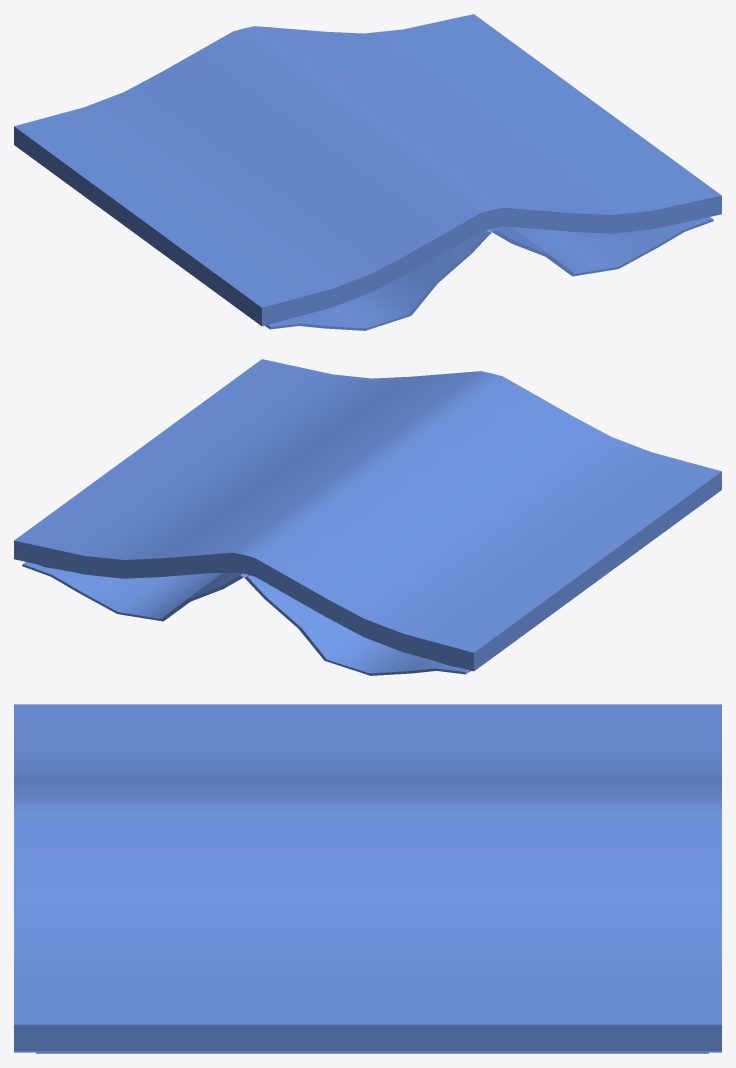
File: SM_Magazine.fbx
3 views of the same model, one above another, from view 1: azimuth 30°, elevation 25°; view 2: azimuth 150°, elevation 25°; view 3: azimuth 270°, elevation 25° (orthographic). The views are drawn at different scales.
Visible parts, largest first — view 1: portada, hoja.001; view 2: portada, hoja.001; view 3: portada, hoja.001, hoja.
Boxes of the visible parts, x1=… form: portada: x1=14, y1=14, x2=721, y2=326; hoja.001: x1=265, y1=217, x2=713, y2=330; portada: x1=14, y1=359, x2=721, y2=671; hoja.001: x1=22, y1=562, x2=470, y2=675; portada: x1=14, y1=704, x2=721, y2=1051; hoja.001: x1=14, y1=1051, x2=721, y2=1052; hoja: x1=36, y1=1052, x2=708, y2=1053.
Bounding box in the file's own units: 214 × 40.06 × 200.
